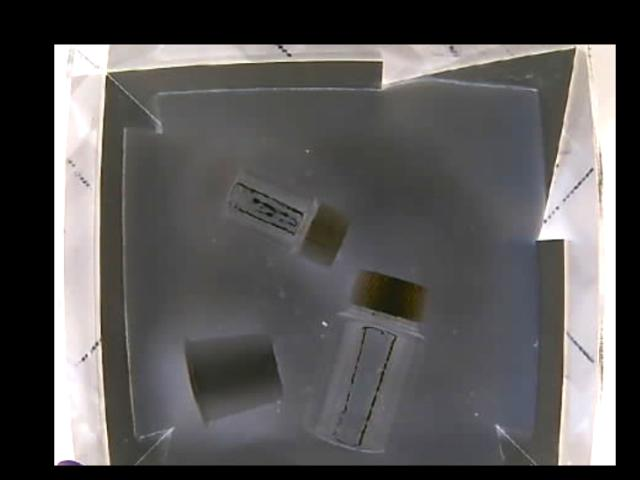Bottle: (306, 263, 429, 451), (215, 165, 349, 266)
Cup: (176, 334, 288, 423)
